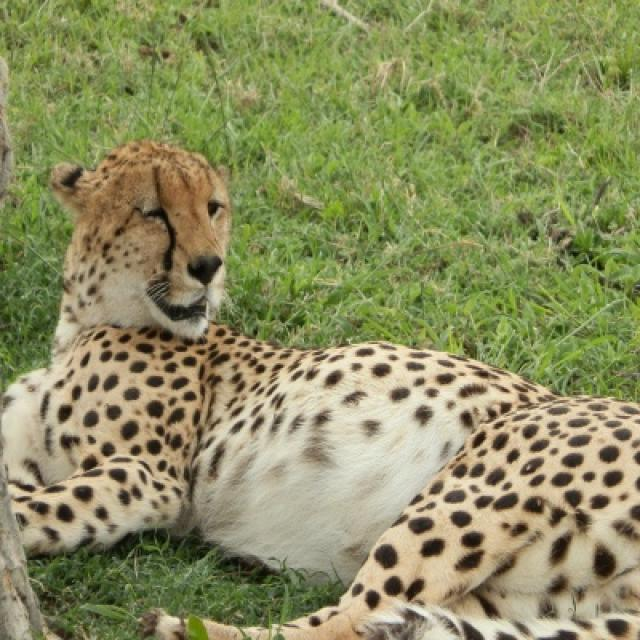Cheetah: (0, 141, 638, 638)
